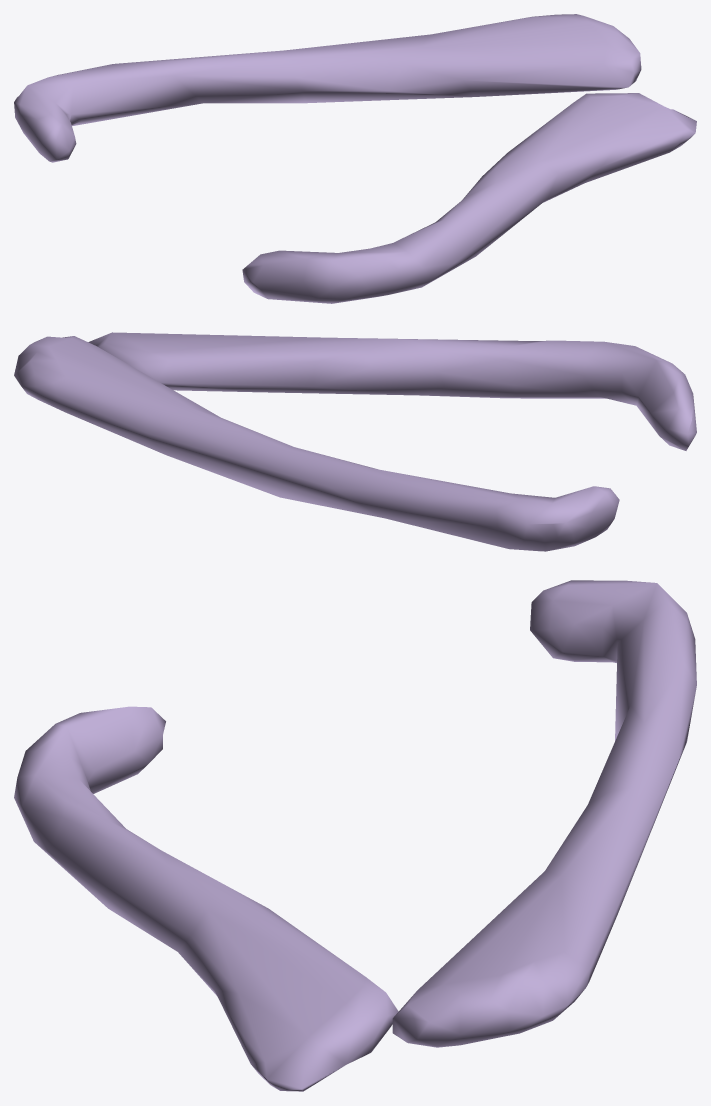
The picture shows the model from 3 angles, top to bottom: view 1: azimuth 30°, elevation 25°; view 2: azimuth 150°, elevation 25°; view 3: azimuth 270°, elevation 25°; orthographic projection. The views are drawn at different scales.
Parts seen in each view (by area): view 1: 右侧泪小管; view 2: 右侧泪小管; view 3: 右侧泪小管.
Boxes of the visible parts, x1=… form: 右侧泪小管: x1=14, y1=14, x2=696, y2=303; 右侧泪小管: x1=14, y1=332, x2=696, y2=551; 右侧泪小管: x1=14, y1=580, x2=696, y2=1091.
Size of the model in its own units: 0.0104 by 0.00171 by 0.00738.
